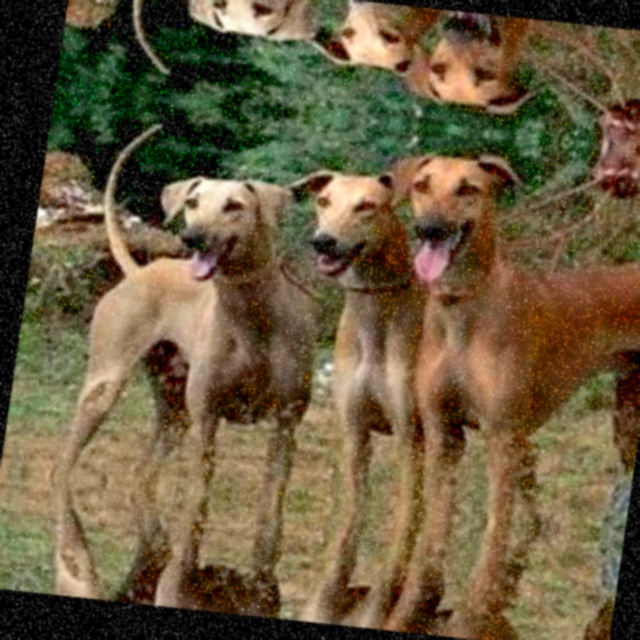dog: (358, 145, 640, 507), (42, 144, 300, 461), (337, 537, 620, 640), (413, 8, 640, 132), (20, 509, 248, 614), (284, 151, 415, 297), (101, 0, 325, 60), (315, 0, 438, 88)
